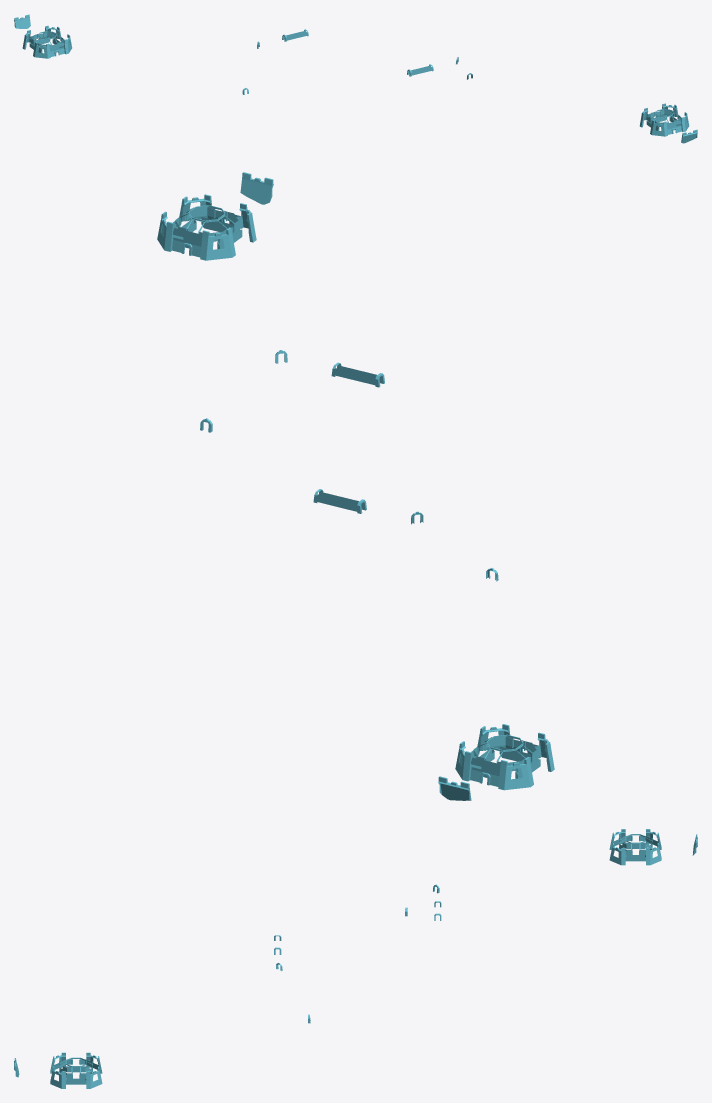
Rendered from cluster_9.fbx.
3 views of the same model, one above another, from view 1: azimuth 30°, elevation 25°; view 2: azimuth 150°, elevation 25°; view 3: azimuth 270°, elevation 25° (orthographic). The views are drawn at different scales.
Visible parts, largest first — view 1: cluster_9; view 2: cluster_9; view 3: cluster_9.
Boxes of the visible parts, x1,y1,x2,y2 form: cluster_9: (14, 14, 697, 143); cluster_9: (157, 172, 554, 800); cluster_9: (14, 829, 697, 1088).
Size of the model in its own units: 1127966 by 94777 by 1328059.
